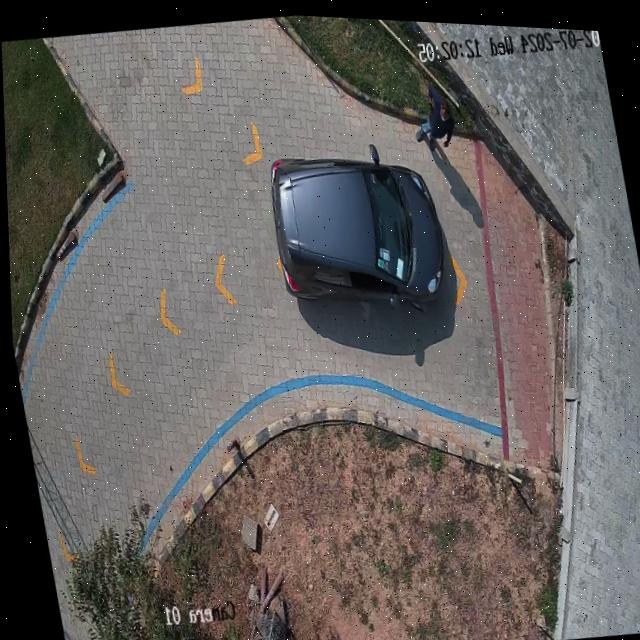car: (270, 142, 445, 304)
